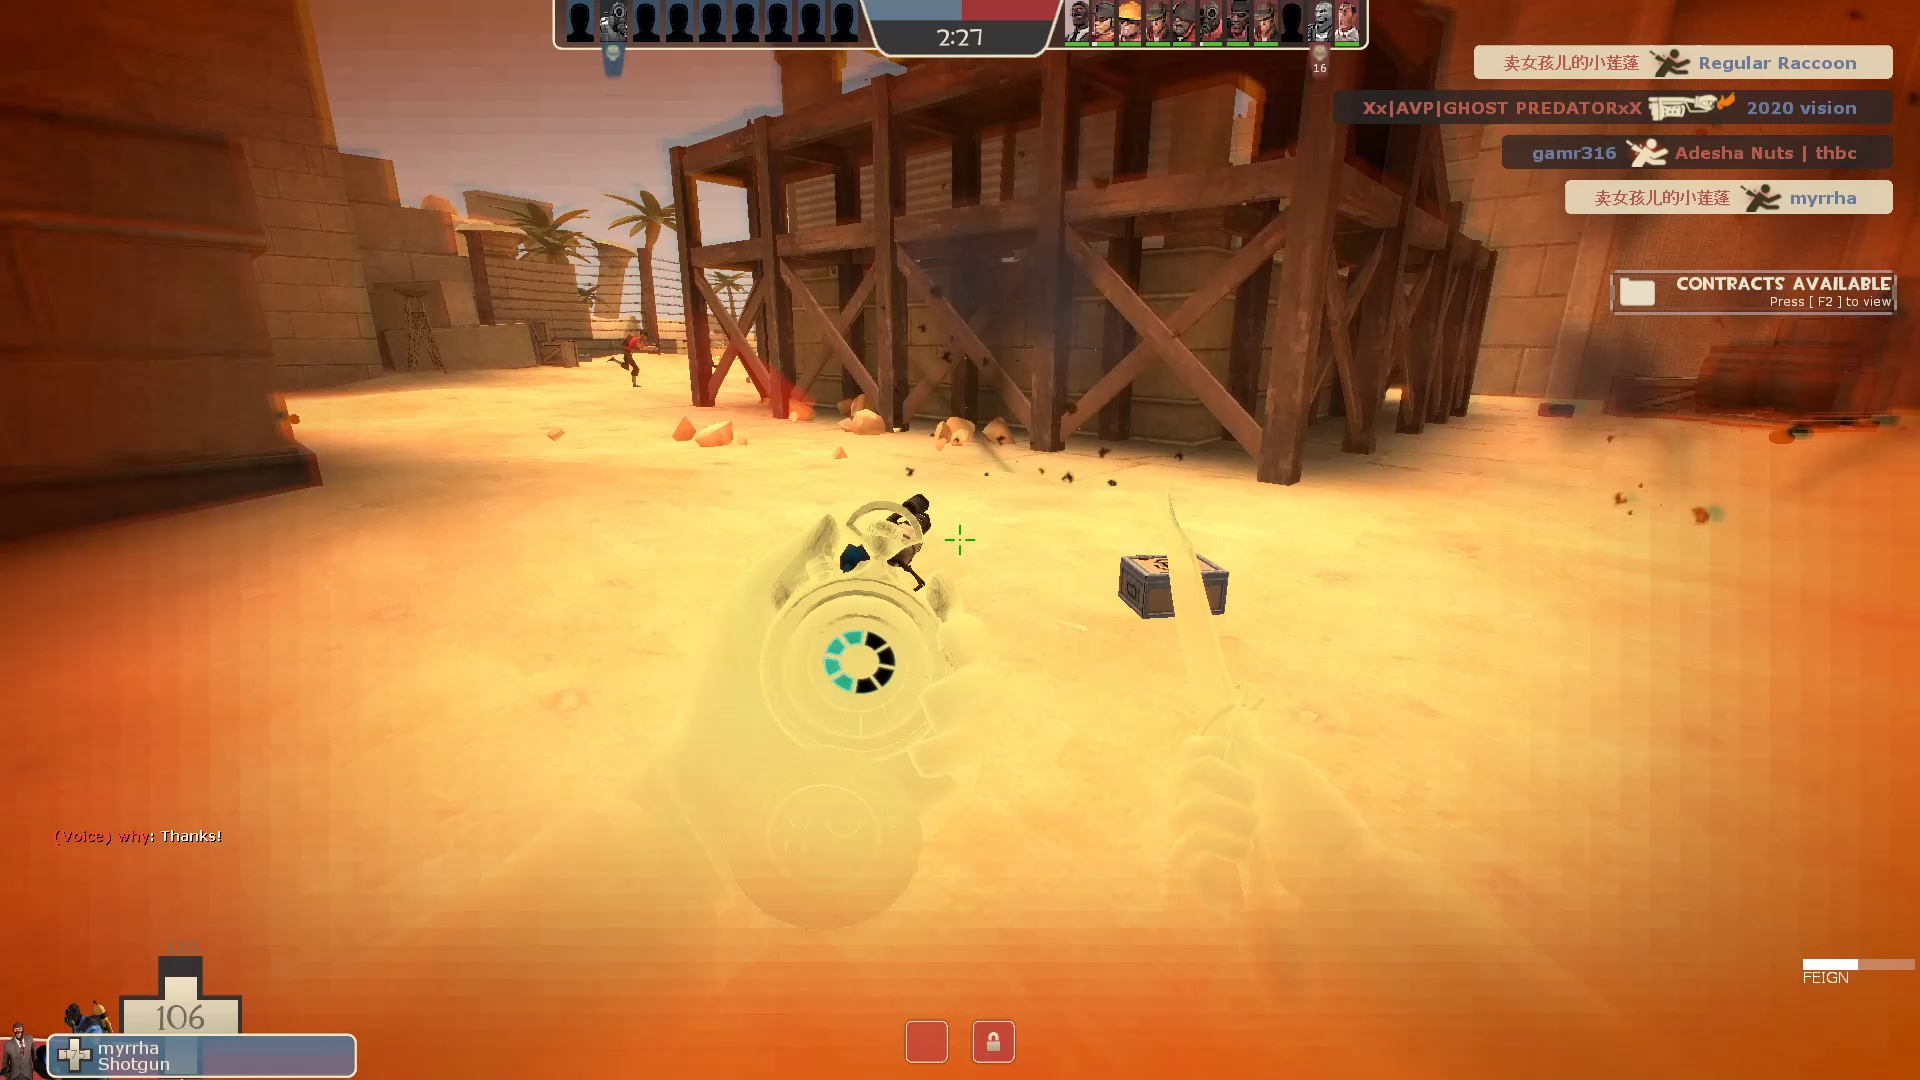red_scout: (603, 319, 669, 400)
